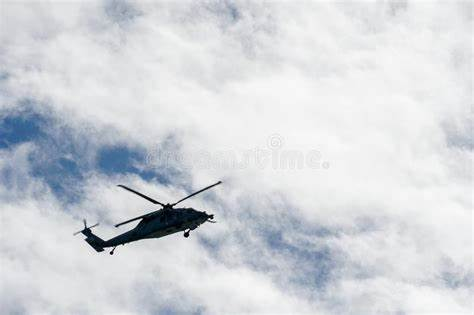helicopter: (49, 149, 243, 273)
